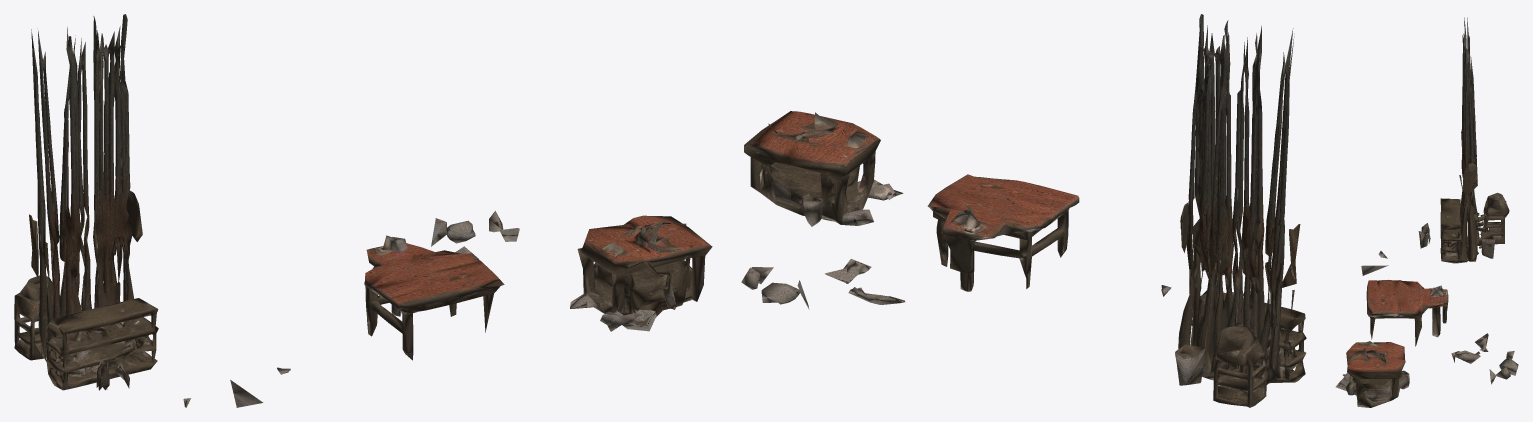
File: buechsenmacher.glb
The picture shows the model from 3 angles, left to right: view 1: azimuth 30°, elevation 25°; view 2: azimuth 150°, elevation 25°; view 3: azimuth 270°, elevation 25°; orthographic projection. The views are drawn at different scales.
Bounding box in the file's own units: 1.9 × 1.09 × 0.8256.
Materials: 1 (1 with a texture image).
